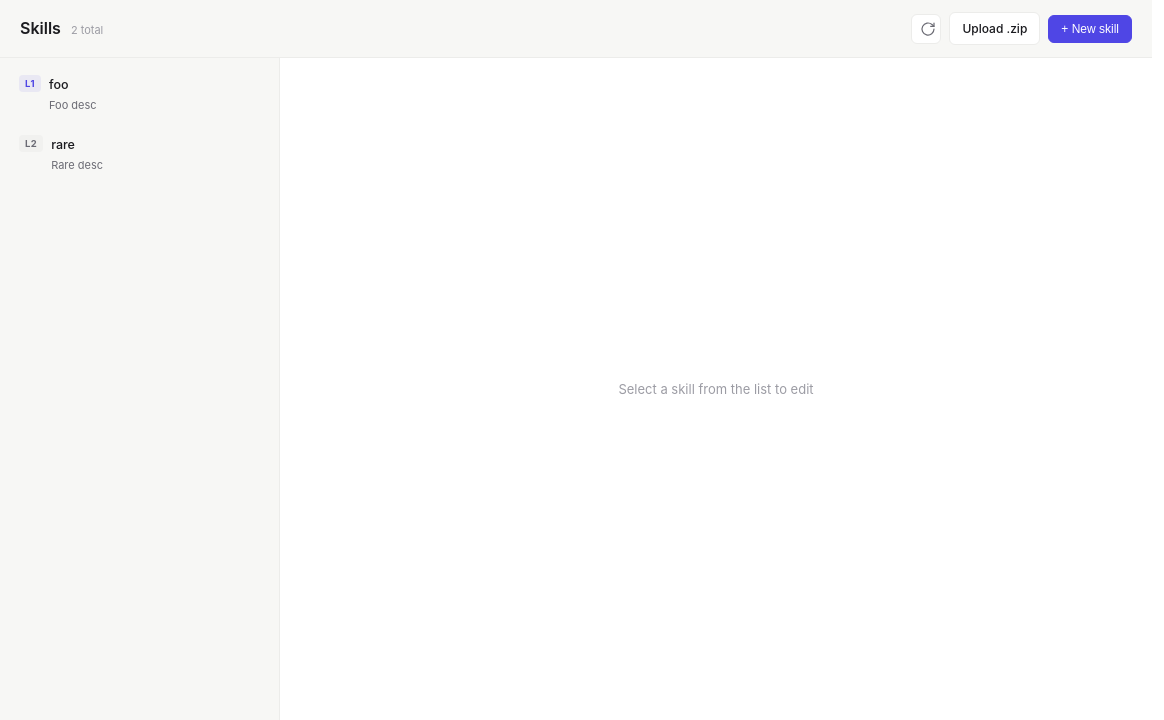
SkillsPage › Save button disabled when not dirty
Click the text "foo".
click(59, 85)  # box [49,77,68,92]
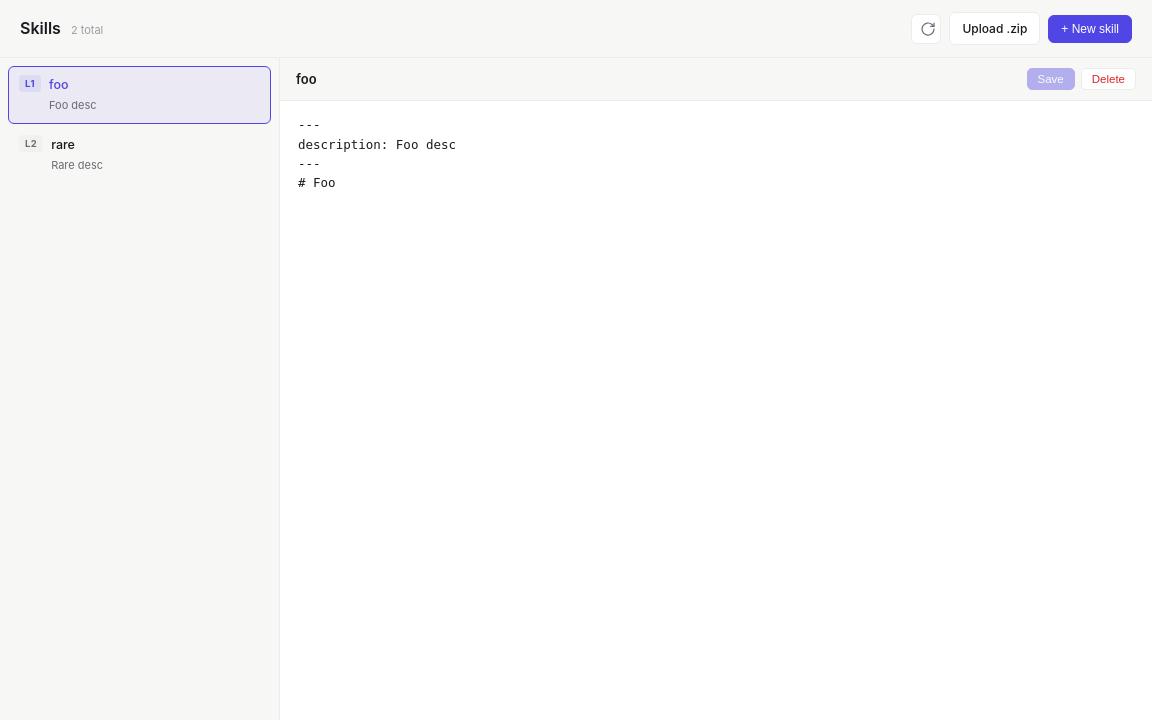
Expected: the text box with placeholder "SKILL.md content (markdown with optional YAML frontmatter)" is shown
Expected: the button "Save" is disabled, [1026,68,1075,90]
